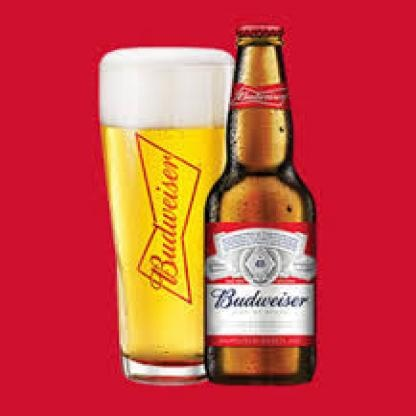trash: (99, 47, 233, 383), (206, 25, 315, 383)
